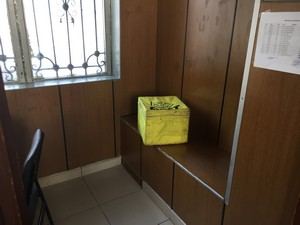cube: (137, 95, 190, 148)
